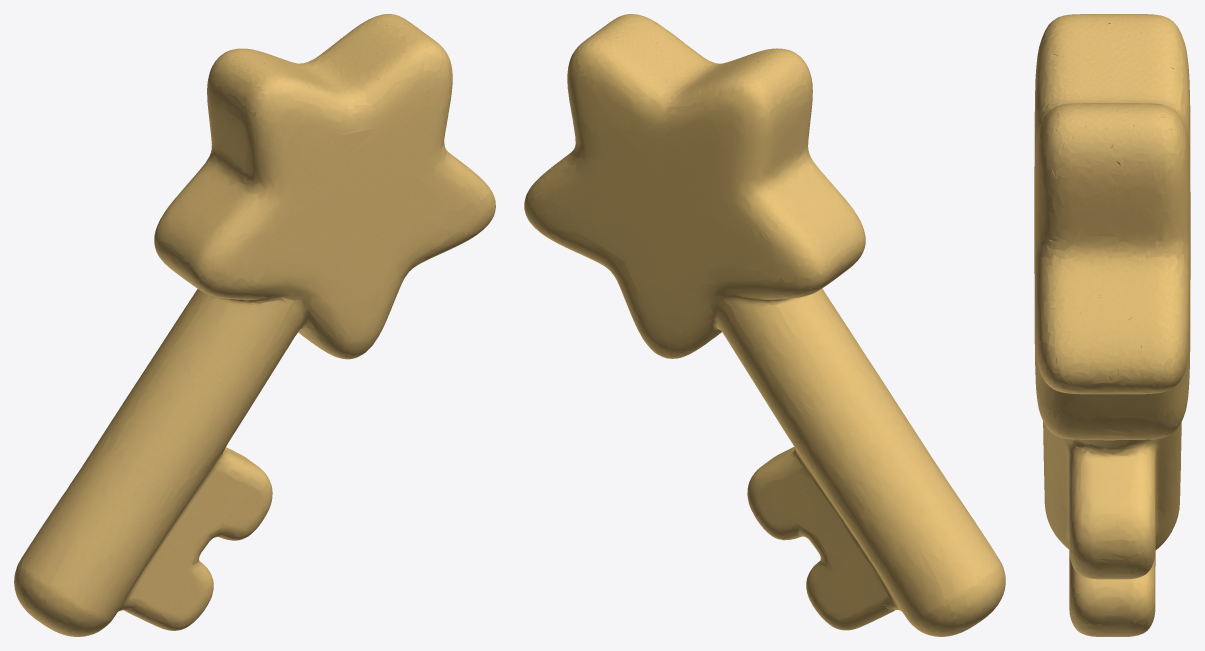
Rendered from key-t5.original.glb.
The picture shows the model from 3 angles, left to right: view 1: azimuth 30°, elevation 25°; view 2: azimuth 150°, elevation 25°; view 3: azimuth 270°, elevation 25°; orthographic projection. The views are drawn at different scales.
Parts seen in each view (by area): view 1: mesh_node; view 2: mesh_node; view 3: mesh_node.
Boxes of the visible parts, bbox=[...] form: mesh_node: bbox=[14, 14, 495, 636]; mesh_node: bbox=[524, 14, 1005, 636]; mesh_node: bbox=[1034, 14, 1190, 636].
Size of the model in its own units: 1.68 by 1.9 by 0.4022.
1 material, 1 textured.
